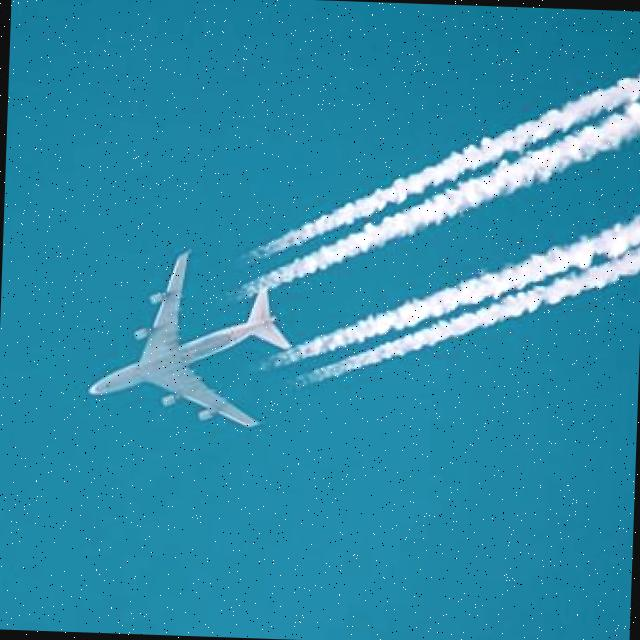Ct: (97, 23, 640, 482)
